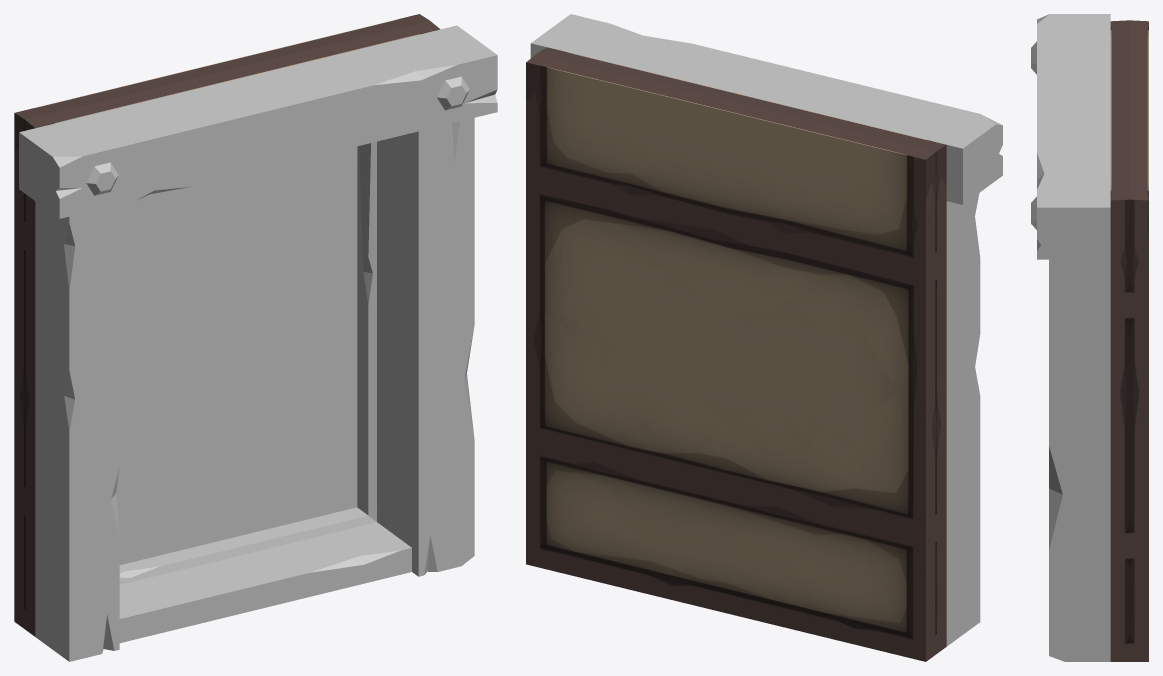
The model's file is SM_Bld_Alcove_01.fbx.
3 views of the same model, side by side, from view 1: azimuth 30°, elevation 25°; view 2: azimuth 150°, elevation 25°; view 3: azimuth 270°, elevation 25° (orthographic). The views are drawn at different scales.
Parts seen in each view (by area): view 1: SM_Bld_Alcove_01; view 2: SM_Bld_Alcove_01; view 3: SM_Bld_Alcove_01.
Boxes of the visible parts, x1,y1,x2,y2 form: SM_Bld_Alcove_01: (14, 14, 497, 661); SM_Bld_Alcove_01: (526, 14, 1002, 661); SM_Bld_Alcove_01: (1031, 14, 1148, 661).
Size of the model in its own units: 270 by 301 by 69.33.
